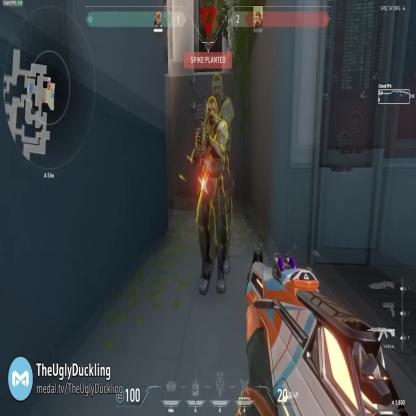enemy: (192, 96, 232, 297)
enemy_head: (207, 100, 217, 125)
